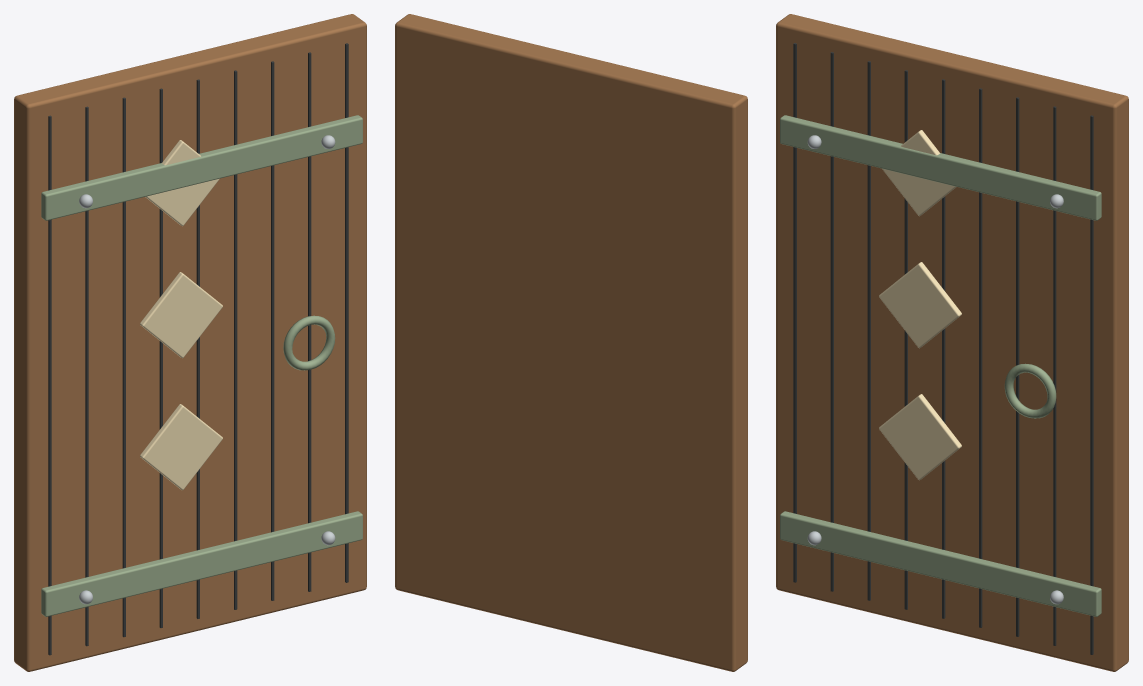
Rendered from desert-caravanserai-and-bazaar-carved-entrance-door-2f8fe990__30450.glb.
3 renders of one model, left to right at view 1: azimuth 30°, elevation 25°; view 2: azimuth 150°, elevation 25°; view 3: azimuth 330°, elevation 25°, orthographic.
Parts seen in each view (by area): view 1: carved-entrance-door; view 2: carved-entrance-door; view 3: carved-entrance-door.
Part boxes in pixels (x1=…): carved-entrance-door: x1=14, y1=14, x2=366, y2=671; carved-entrance-door: x1=395, y1=14, x2=747, y2=671; carved-entrance-door: x1=776, y1=14, x2=1128, y2=671.
Bounding box in the file's own units: 1.35 × 2.15 × 0.206.
